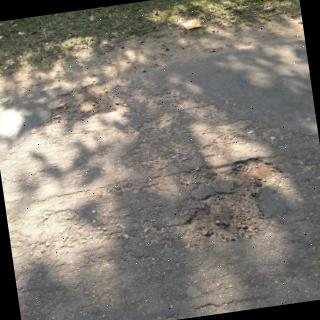pothole: (173, 158, 290, 243), (45, 81, 129, 126)
